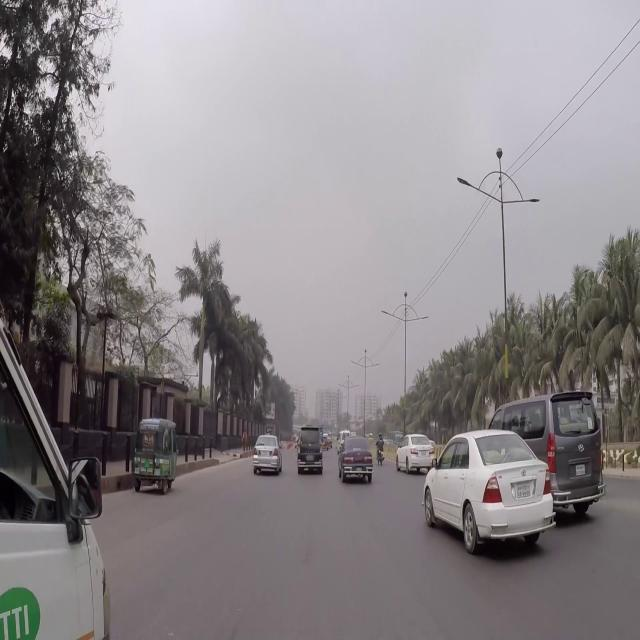black: (543, 397, 609, 524), (296, 424, 323, 474)
maroon: (338, 436, 373, 483)
silver: (252, 433, 282, 474)
white: (422, 427, 556, 554), (396, 432, 435, 473)
